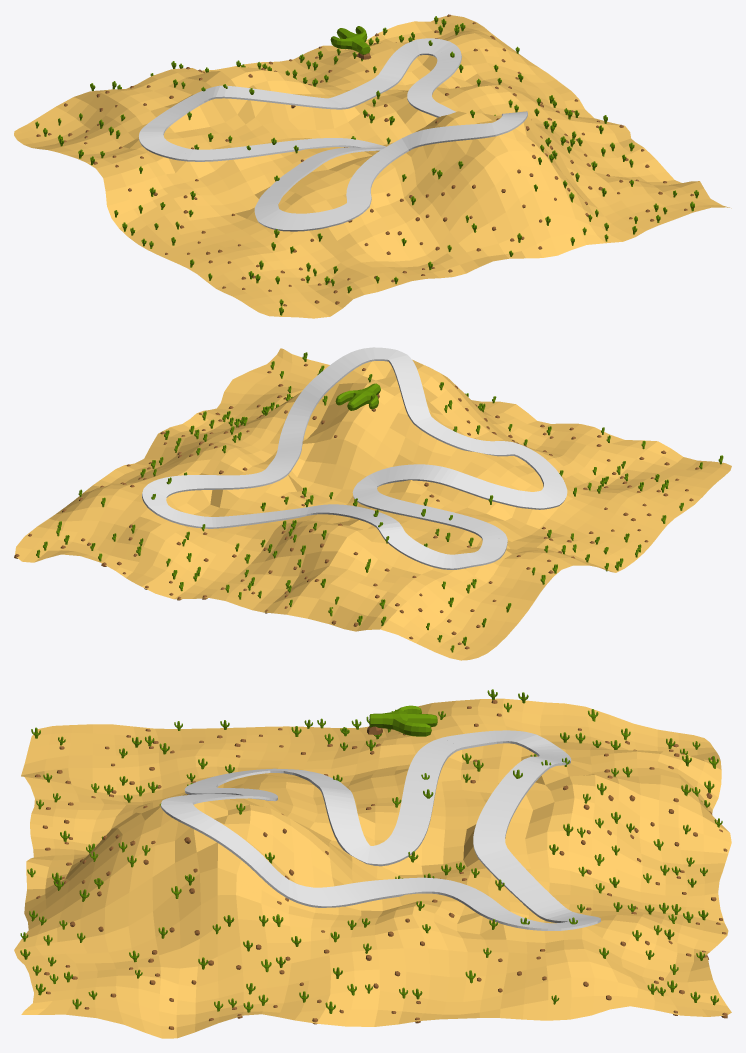
File: Track3.fbx
The picture shows the model from 3 angles, top to bottom: view 1: azimuth 30°, elevation 25°; view 2: azimuth 150°, elevation 25°; view 3: azimuth 270°, elevation 25°; orthographic projection. The views are drawn at different scales.
Parts seen in each view (by area): view 1: Plane, Road, Cactus; view 2: Plane, Road, Cactus; view 3: Plane, Road, Cactus.
Part boxes in pixels (bbox=[...]): Plane: bbox=[14, 15, 731, 318]; Road: bbox=[138, 38, 527, 231]; Cactus: bbox=[330, 26, 370, 54]; Plane: bbox=[15, 348, 731, 660]; Road: bbox=[142, 347, 567, 569]; Cactus: bbox=[335, 383, 380, 410]; Plane: bbox=[14, 698, 731, 1038]; Road: bbox=[161, 730, 600, 930]; Cactus: bbox=[369, 705, 437, 736].
Size of the model in its own units: 9021 by 2461 by 9001.
